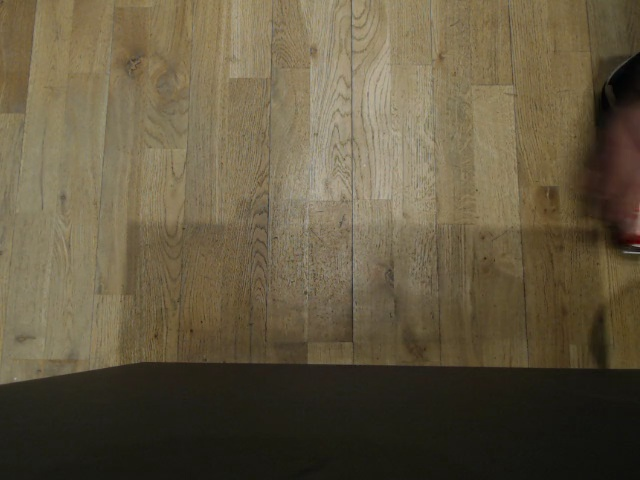cola: (607, 154, 640, 254)
